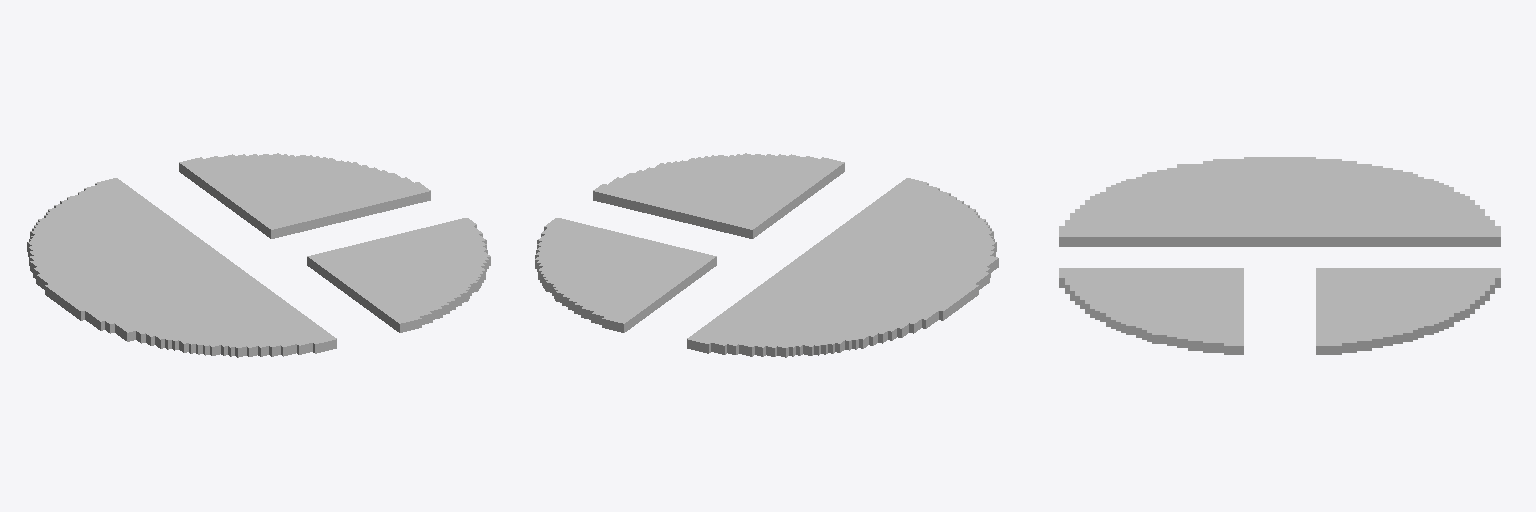
File: 2 лвл-3.obj
3 views of the same model, side by side, from view 1: azimuth 30°, elevation 25°; view 2: azimuth 150°, elevation 25°; view 3: azimuth 270°, elevation 25° (orthographic).
Visible parts, largest first — view 1: object 1; view 2: object 1; view 3: object 1.
Boxes of the visible parts, x1=… form: object 1: x1=27, y1=153, x2=490, y2=357; object 1: x1=535, y1=153, x2=998, y2=357; object 1: x1=1059, y1=157, x2=1500, y2=354.
Size of the model in its own units: 8.7 by 0.2 by 8.6.